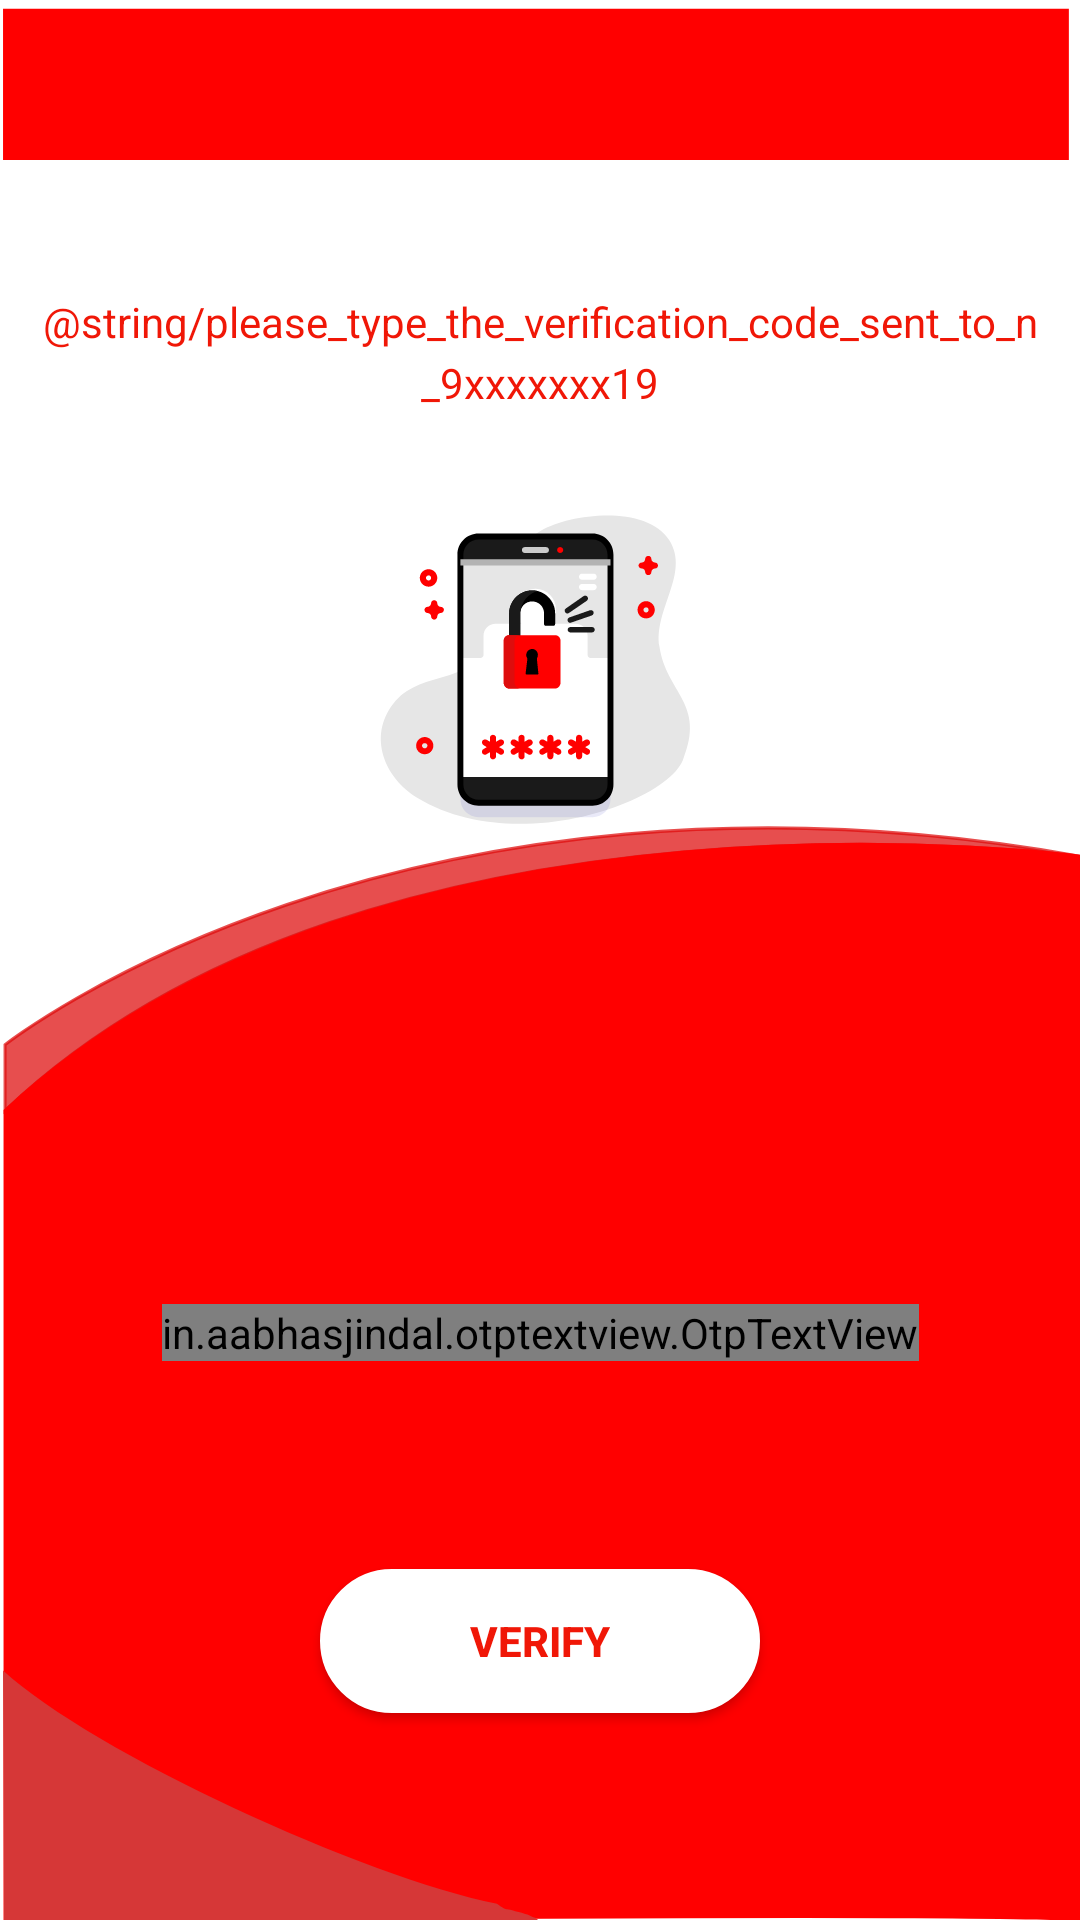

Point at icon controls on the screen. Image size 1080w x 1920h, points as (x=x, y=y).
enter otp: (x=535, y=669)
